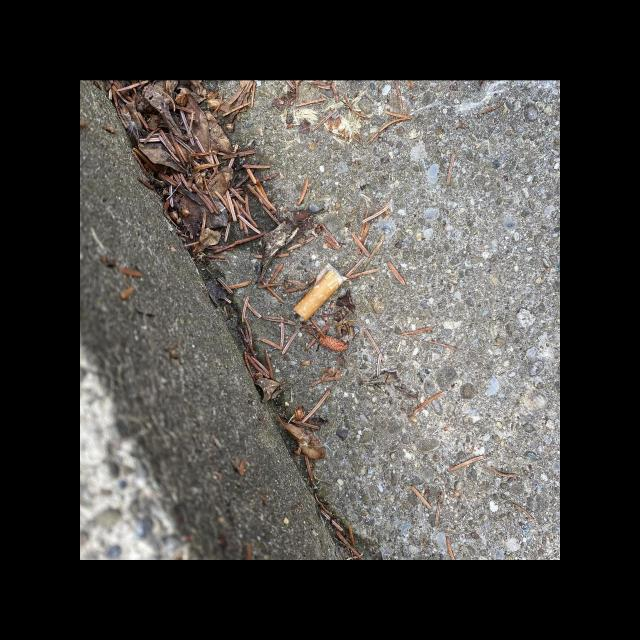cigarette: (293, 263, 348, 321)
